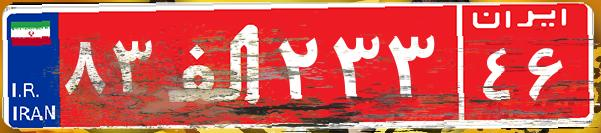2: (273, 28, 330, 110)
3: (385, 28, 445, 110), (330, 28, 385, 110), (110, 28, 158, 105)
4: (475, 38, 525, 113)
6: (525, 38, 570, 115)
8: (57, 26, 110, 107)
الف: (158, 15, 273, 115)
